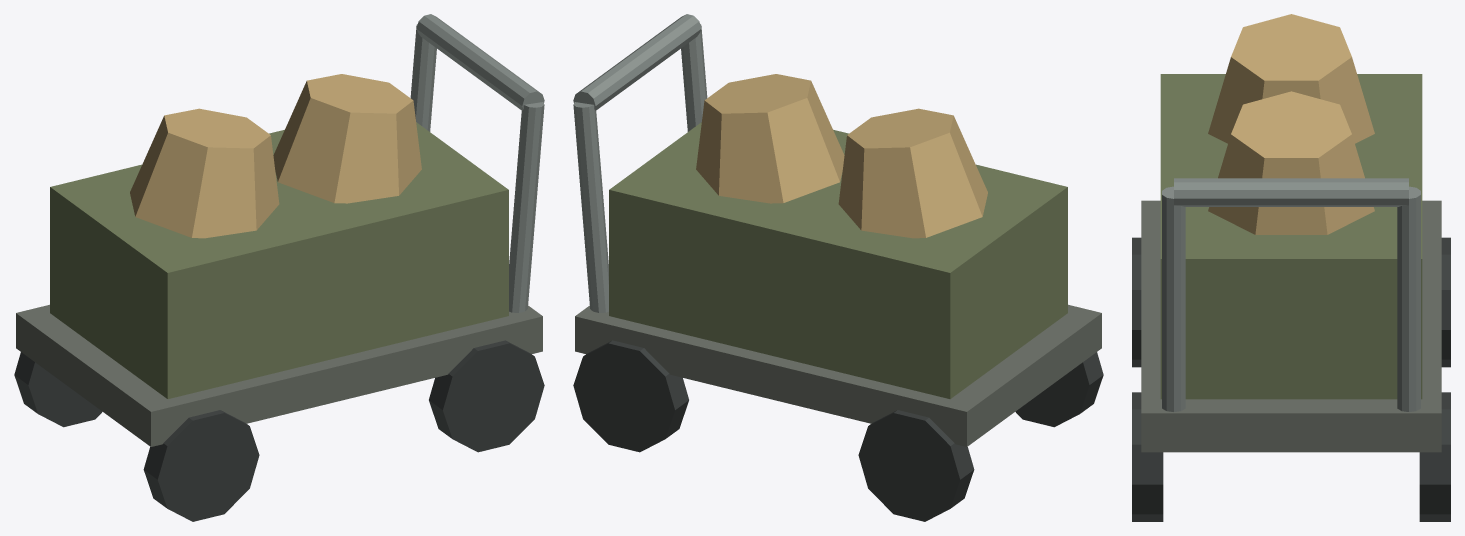
The model's file is ZO_KeeperCart.glb.
3 renders of one model, left to right at view 1: azimuth 30°, elevation 25°; view 2: azimuth 150°, elevation 25°; view 3: azimuth 270°, elevation 25°, orthographic. The views are drawn at different scales.
Parts seen in each view (by area): view 1: ZO_KeeperCart; view 2: ZO_KeeperCart; view 3: ZO_KeeperCart.
Part boxes in pixels (box(x1,y1,x2,y2)): ZO_KeeperCart: box(14, 14, 544, 521); ZO_KeeperCart: box(573, 14, 1103, 521); ZO_KeeperCart: box(1132, 14, 1450, 521).
Size of the model in its own units: 8.02 by 6.16 by 4.88.
Materials: 1 (1 with a texture image).
